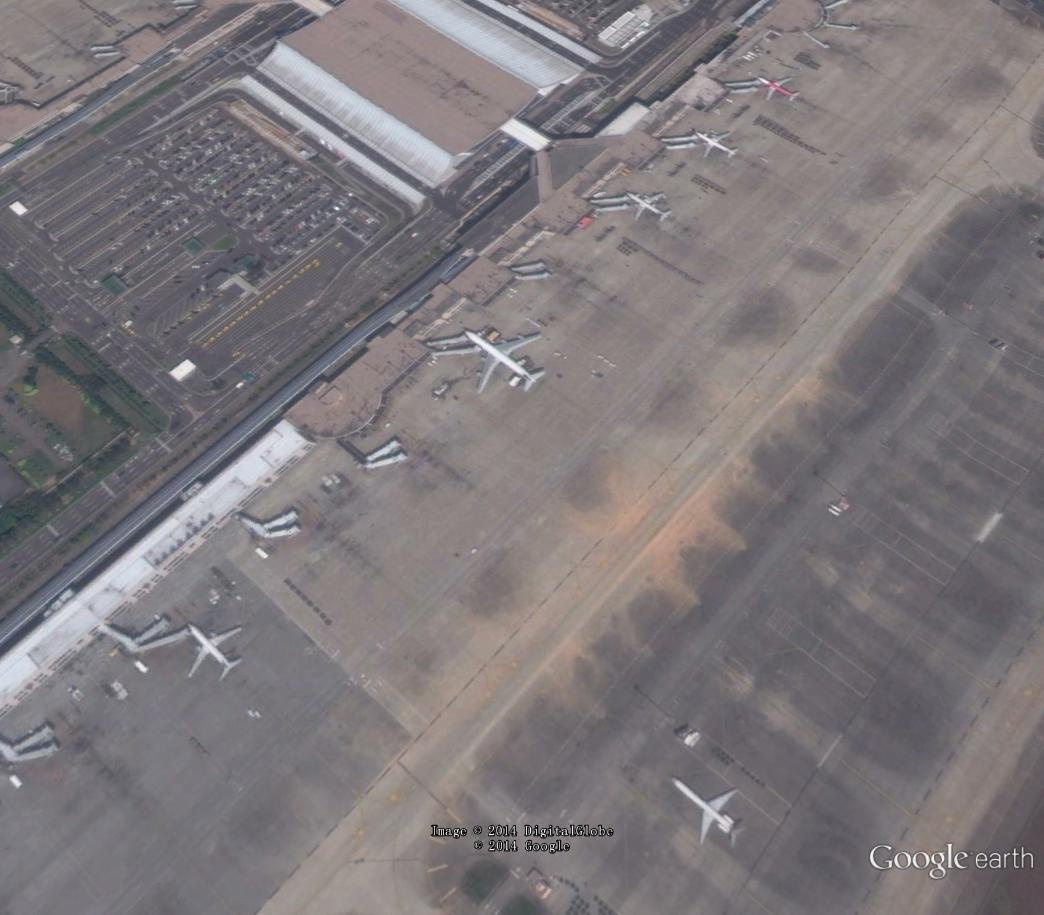aircraft: (667, 774, 756, 853), (460, 327, 550, 400), (184, 619, 250, 684), (690, 124, 744, 168), (621, 187, 679, 225), (756, 67, 805, 108)
